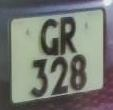2: (48, 53, 71, 99)
3: (28, 55, 52, 100)
8: (68, 54, 89, 94)
G: (37, 14, 60, 57)
R: (58, 13, 79, 59)
